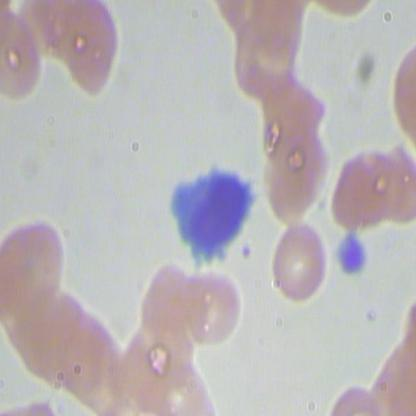Platelets: (330, 230, 368, 289)
RBC: (56, 1, 125, 107), (263, 219, 332, 309), (326, 147, 395, 237), (181, 260, 250, 349)
WBC: (166, 162, 264, 278)
